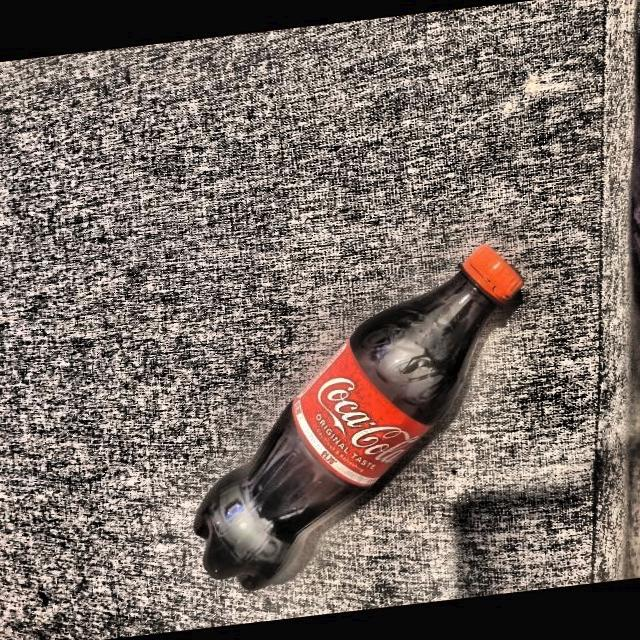coke-bottle: (193, 256, 514, 586)
